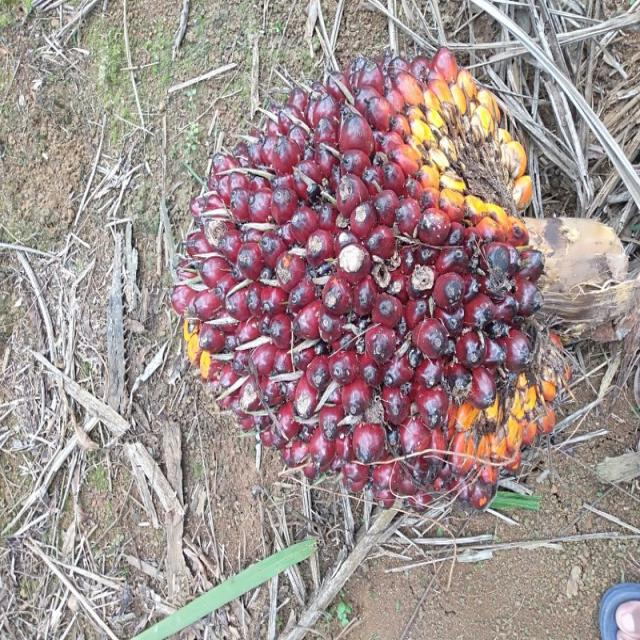fraksi 1: (122, 31, 607, 546)
